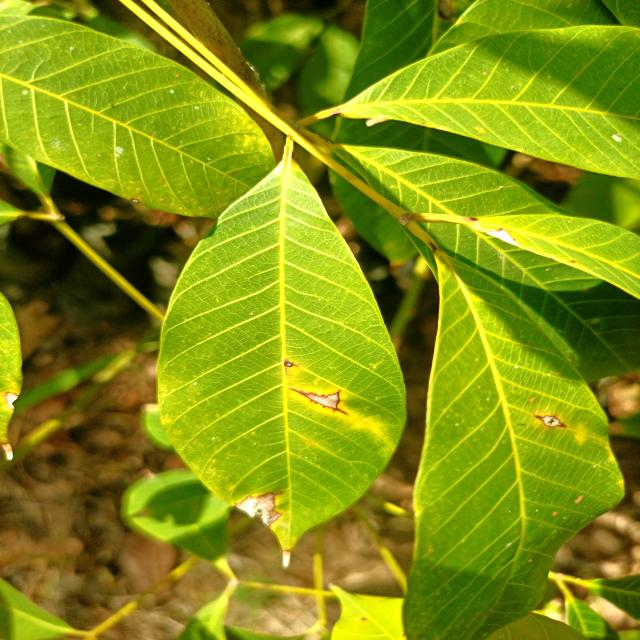Colletotrichum: (131, 197, 139, 204)
Corynespora: (286, 387, 348, 415), (534, 414, 566, 428), (284, 359, 299, 368)
Leaf-Blight: (237, 493, 281, 526), (487, 229, 517, 245), (5, 392, 18, 410), (0, 443, 13, 460), (282, 550, 290, 568)
